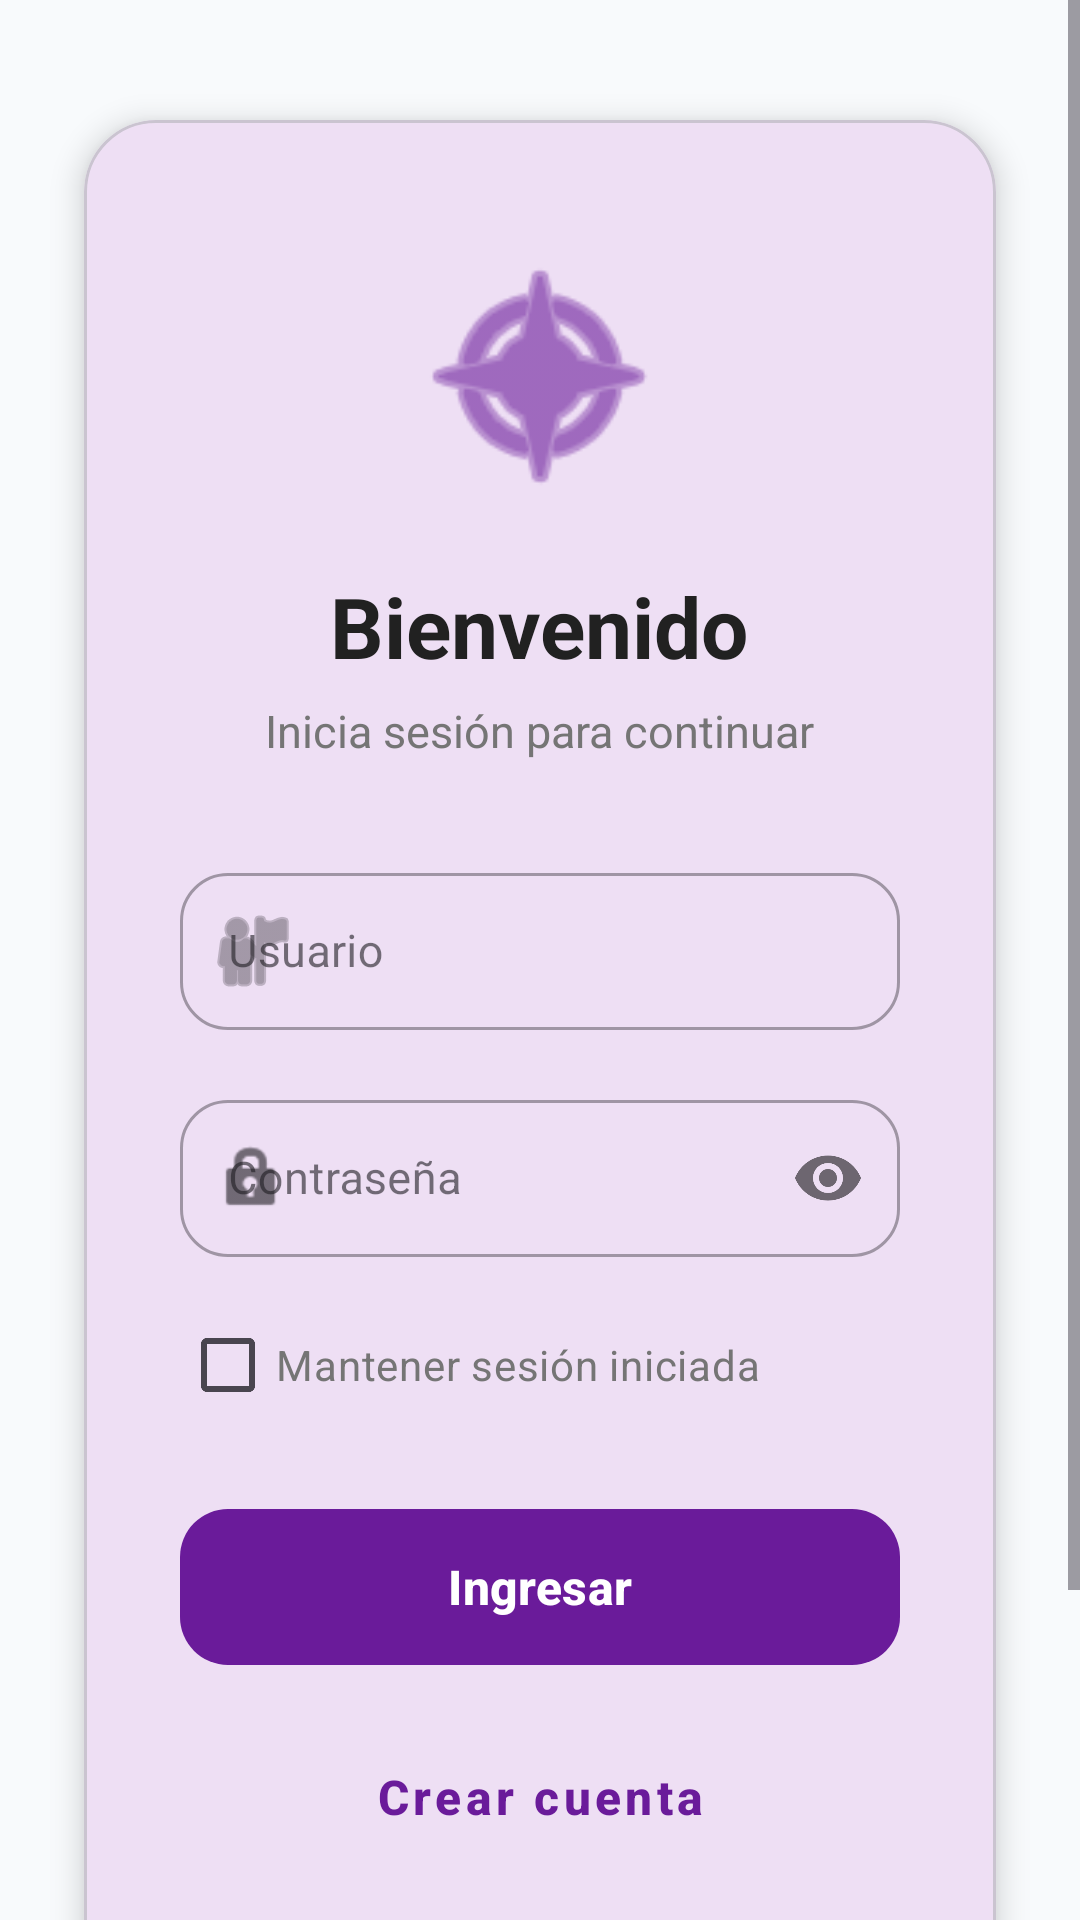

Screen size 1080x1920. Icon name, then its box in pixels as Rect(x1, y1, x2, y2):
Icono de Turismo: Rect(432, 270, 646, 483)
